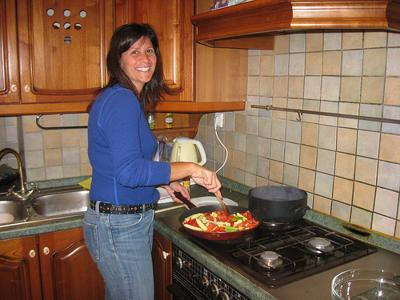person: (82, 24, 224, 300)
